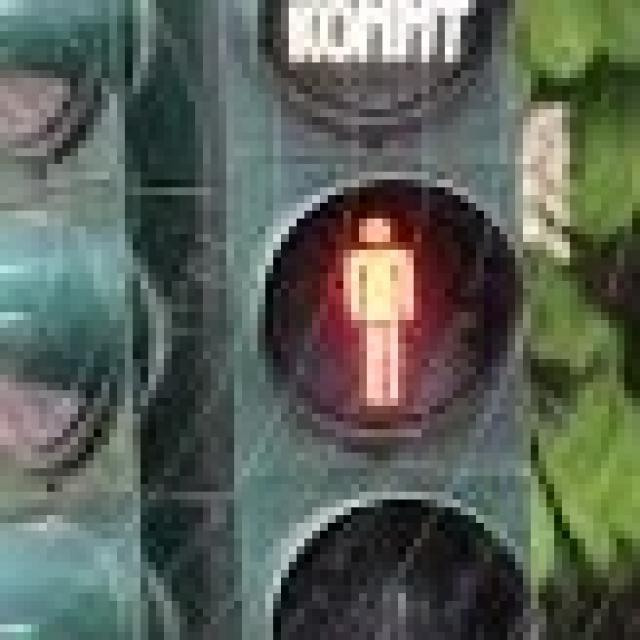red_light: (296, 180, 460, 413)
